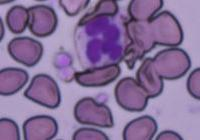N: (73, 10, 130, 70)
